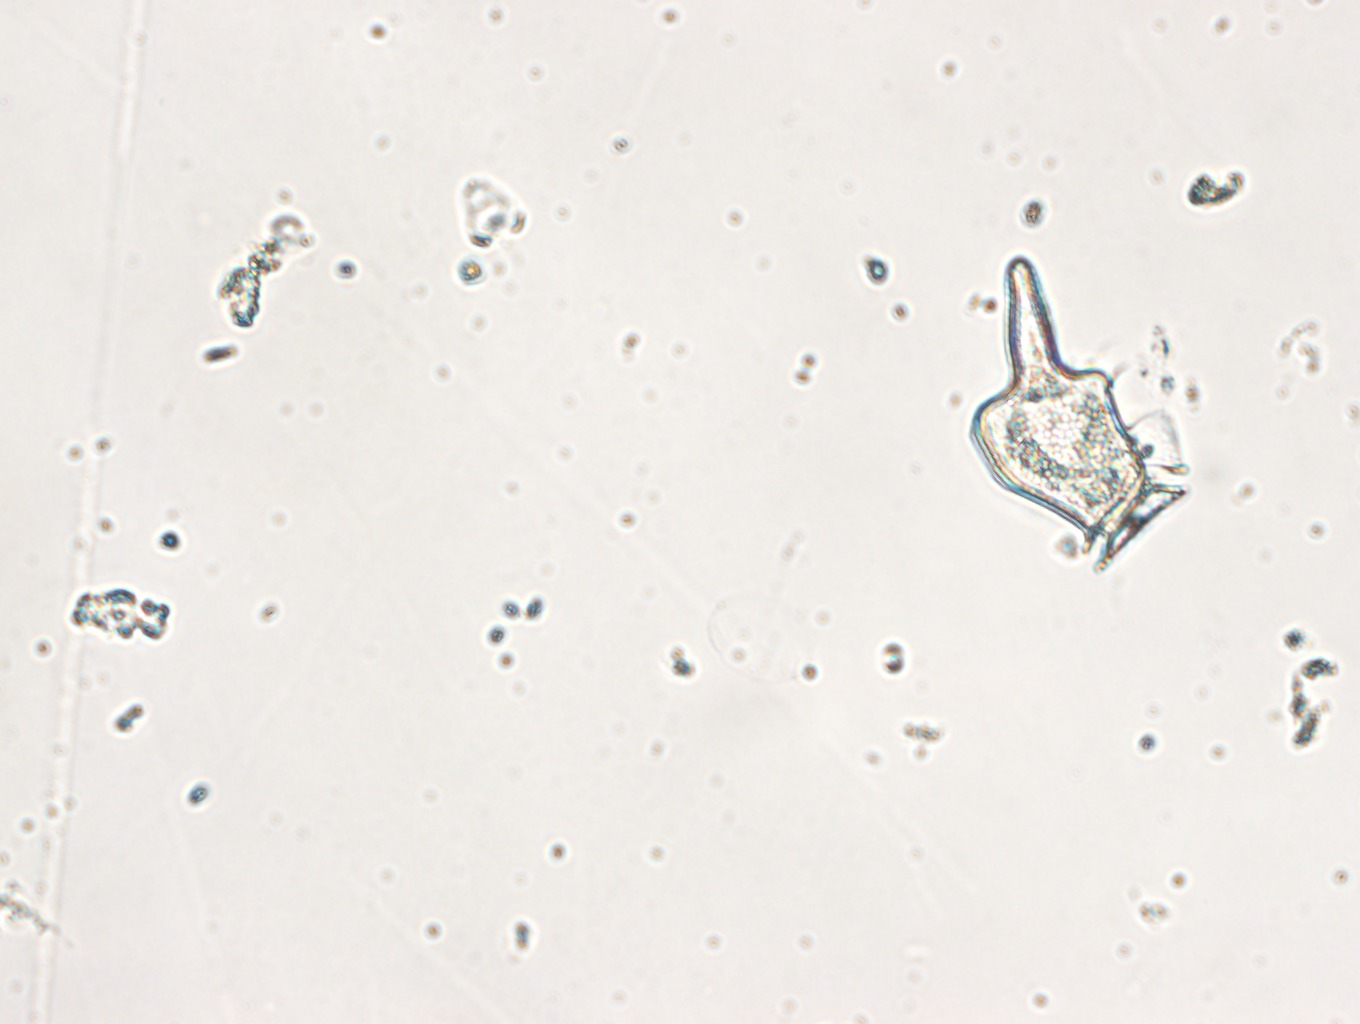dinophysis caudata: (955, 258, 1190, 567)
